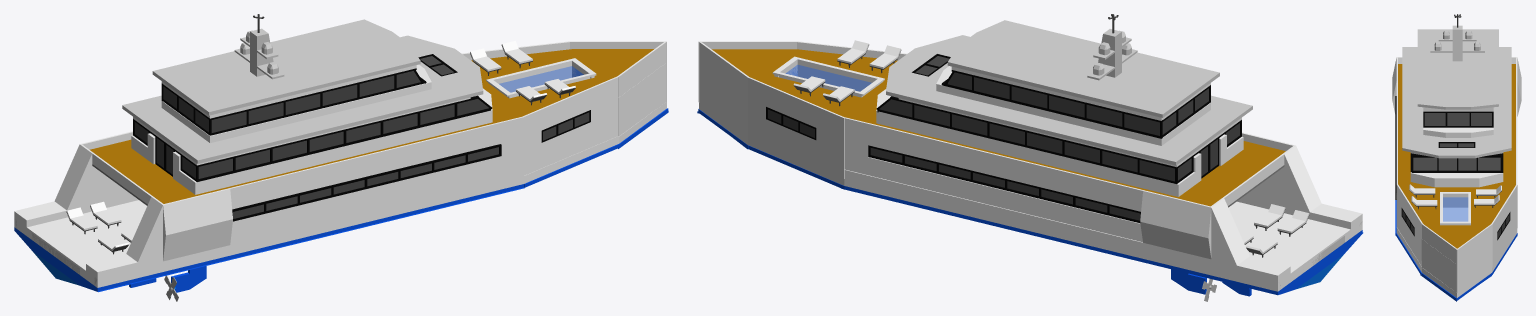
File: boat.gltf
The picture shows the model from 3 angles, left to right: view 1: azimuth 30°, elevation 25°; view 2: azimuth 150°, elevation 25°; view 3: azimuth 270°, elevation 25°; orthographic projection. The views are drawn at different scales.
Visible parts, largest first — view 1: box (×38), wedge (×11); view 2: box (×38), wedge (×8); view 3: box (×44), wedge (×24).
Part boxes in pixels (x1=…): box (×38): x1=14, y1=19, x2=666, y2=291; wedge (×11): x1=54, y1=49, x2=665, y2=292; box (×38): x1=698, y1=20, x2=1362, y2=295; wedge (×8): x1=712, y1=49, x2=1321, y2=265; box (×44): x1=1395, y1=29, x2=1517, y2=292; wedge (×24): x1=1392, y1=29, x2=1521, y2=300.
Bounding box in the file's own units: 36.5 × 13.15 × 9.2.
